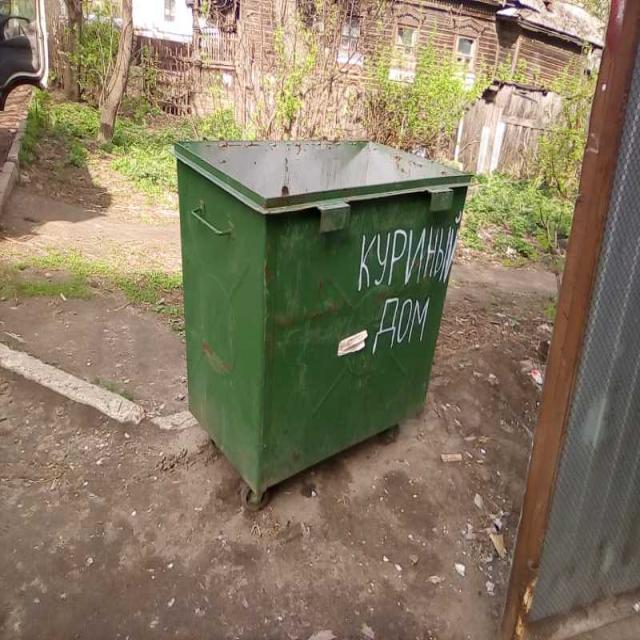Dumpster: (173, 140, 471, 505)
